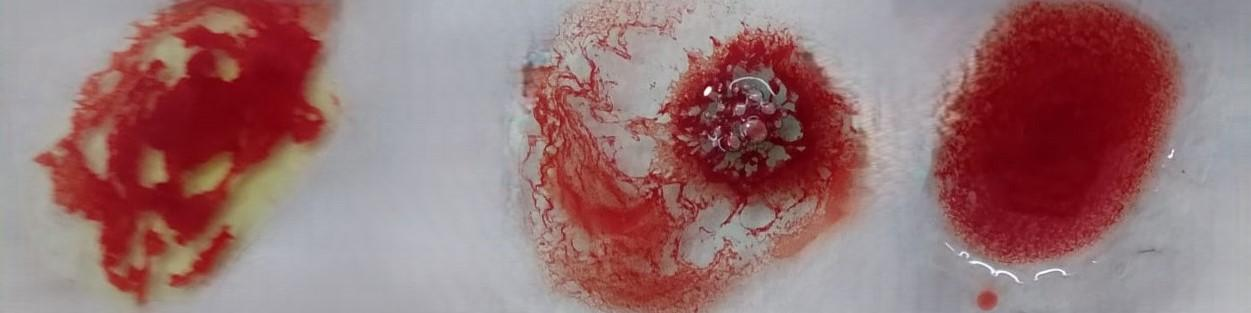A: (514, 4, 862, 309)
B: (44, 1, 330, 303)
D: (930, 2, 1177, 266)
